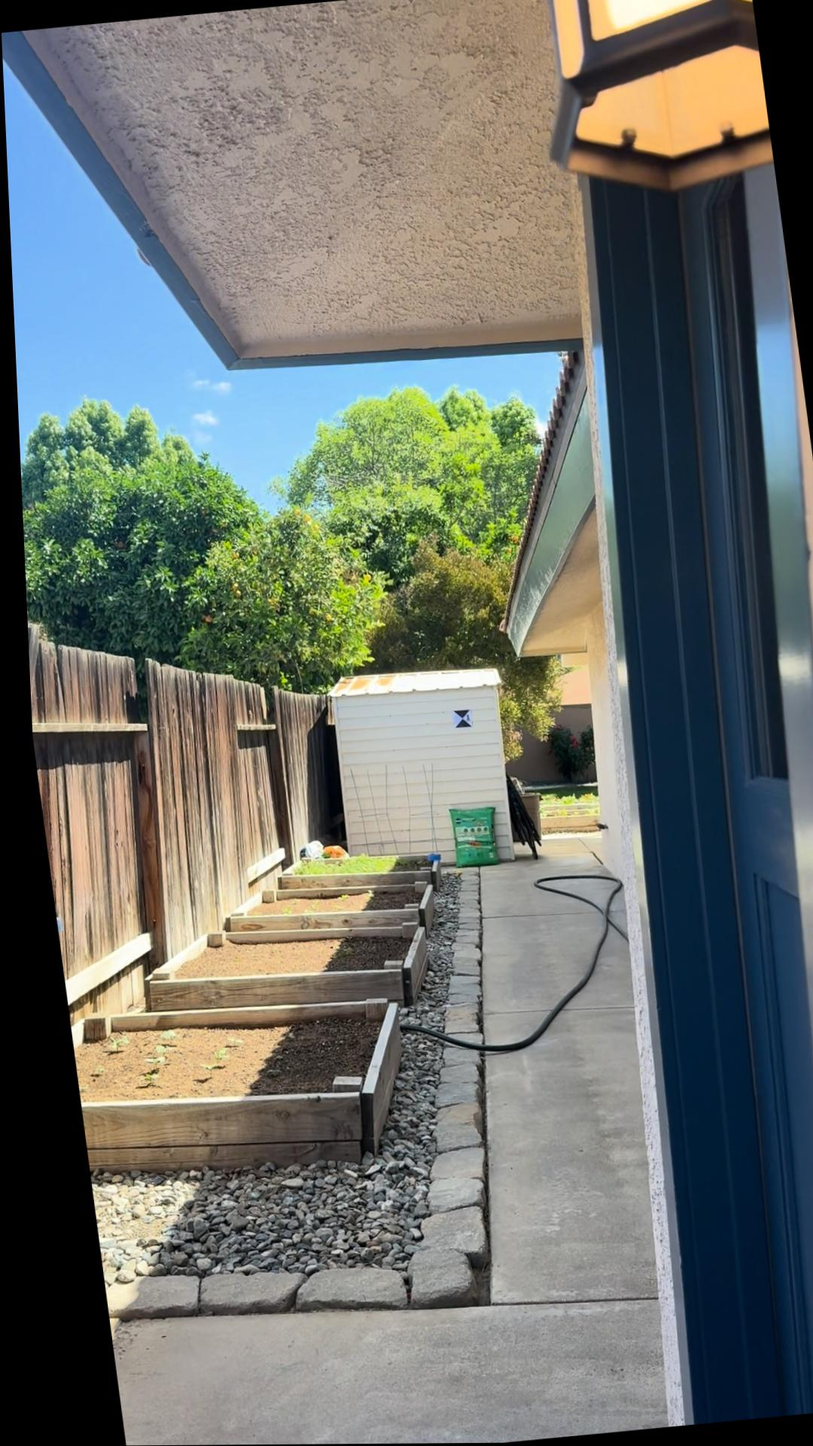target1: (450, 705, 476, 730)
